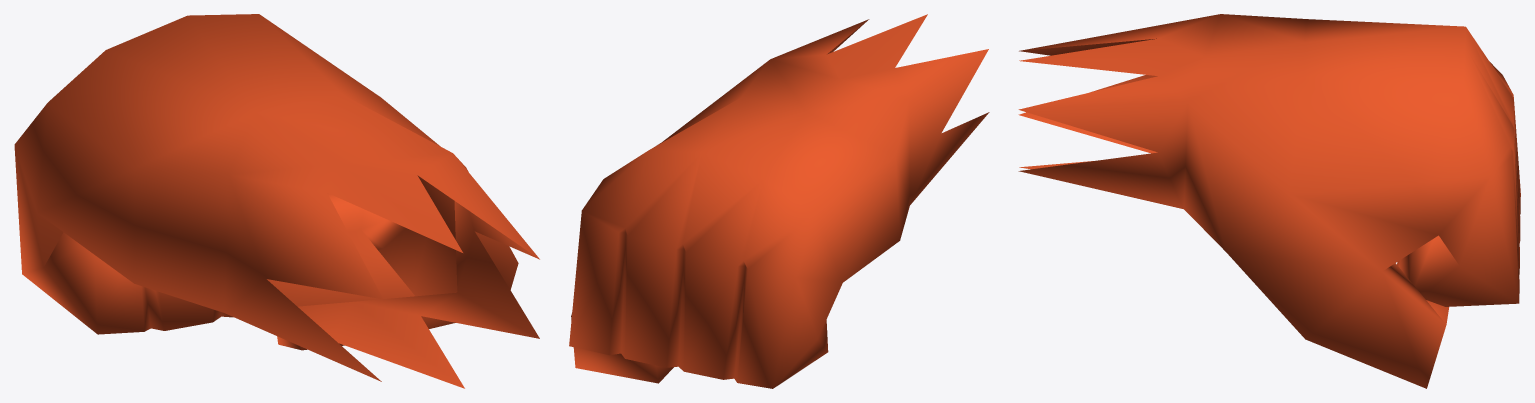
The model's file is Fist.fbx.
3 views of the same model, side by side, from view 1: azimuth 30°, elevation 25°; view 2: azimuth 150°, elevation 25°; view 3: azimuth 270°, elevation 25° (orthographic). The views are drawn at different scales.
Visible parts, largest first — view 1: Body; view 2: Body; view 3: Body.
Part boxes in pixels (x1,y1,x2,y2): Body: (14,14,539,388); Body: (569,14,989,388); Body: (1018,14,1520,388).
Size of the model in its own units: 233 by 203 by 341.
